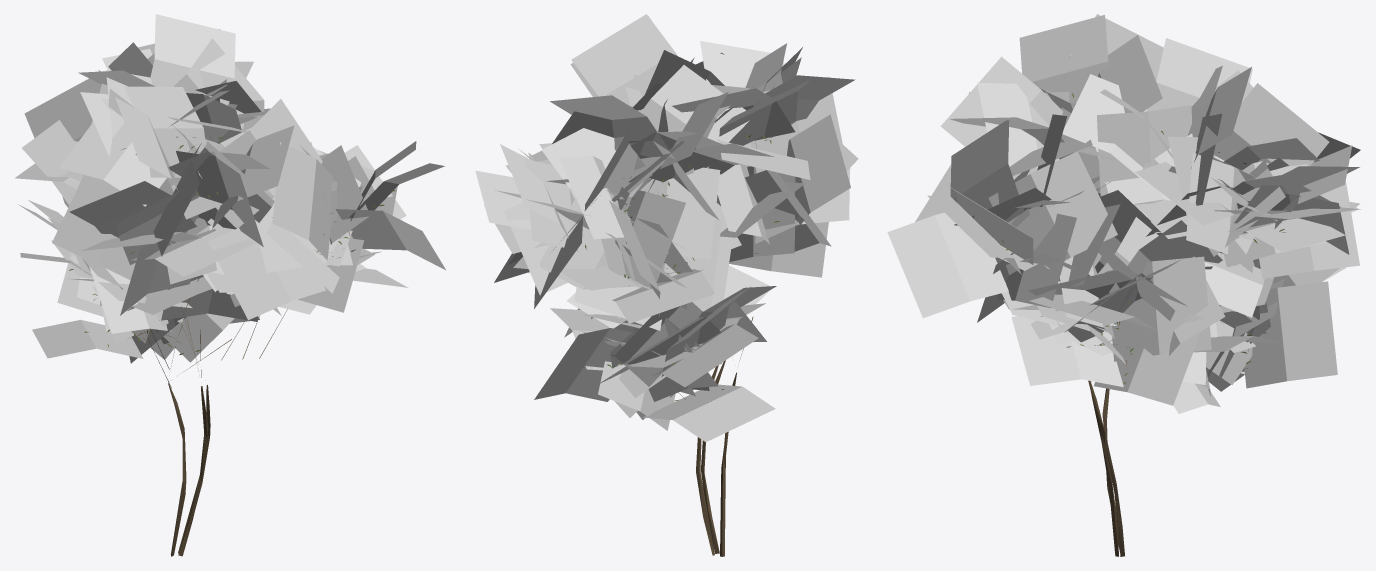
File: Bruyere_Ancien_LOD2.fbx
The picture shows the model from 3 angles, left to right: view 1: azimuth 30°, elevation 25°; view 2: azimuth 150°, elevation 25°; view 3: azimuth 270°, elevation 25°; orthographic projection. The views are drawn at different scales.
Visible parts, largest first — view 1: Bruyere_Ancien_LOD2; view 2: Bruyere_Ancien_LOD2; view 3: Bruyere_Ancien_LOD2.
Part boxes in pixels (x1,y1,x2,y2): Bruyere_Ancien_LOD2: [15, 14, 446, 556]; Bruyere_Ancien_LOD2: [475, 14, 858, 556]; Bruyere_Ancien_LOD2: [887, 14, 1360, 556].
Size of the model in its own units: 289 by 403 by 340.
